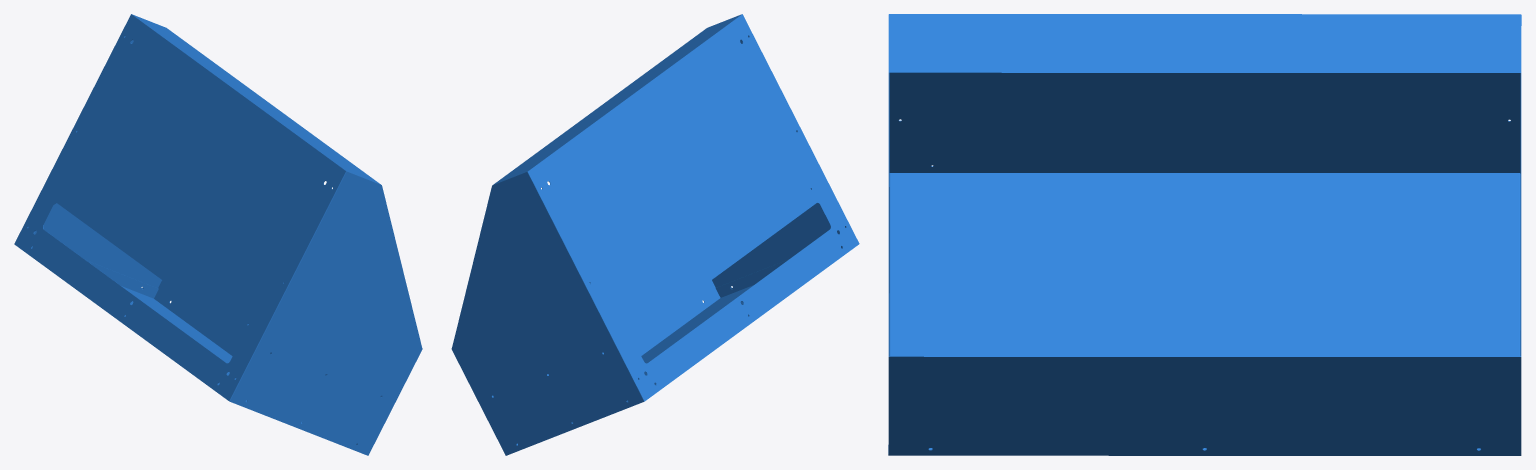
The model's file is converted_Downdraft_Assy_15_3087e3ff.obj.
The picture shows the model from 3 angles, left to right: view 1: azimuth 30°, elevation 25°; view 2: azimuth 150°, elevation 25°; view 3: azimuth 270°, elevation 25°; orthographic projection. The views are drawn at different scales.
Size of the model in its own units: 0.5988 by 0.858 by 1.15.
